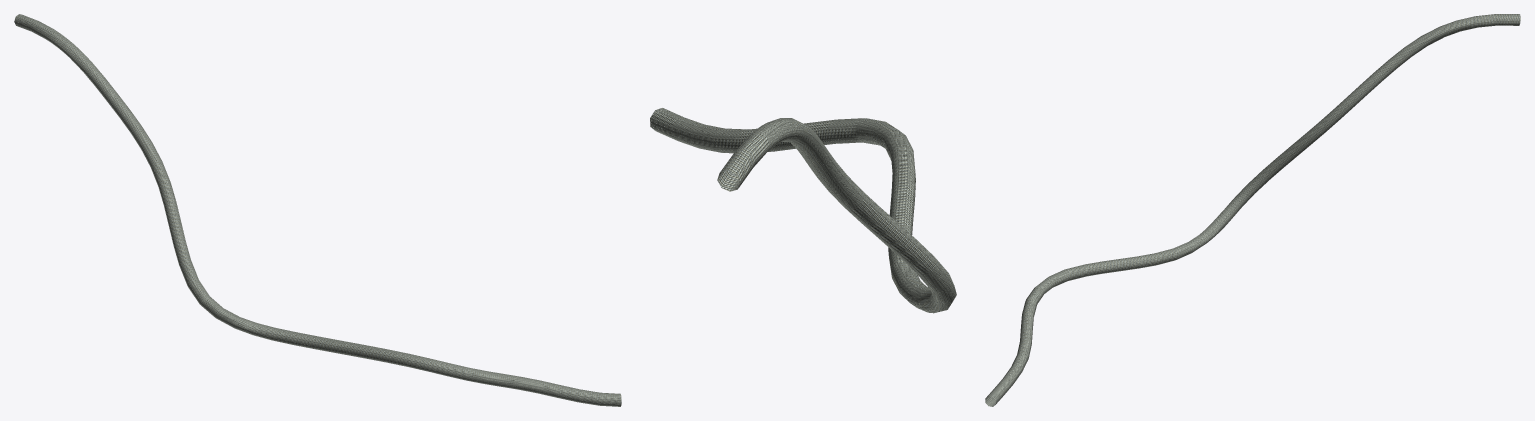
Rendered from microtubule32.fbx.
3 views of the same model, side by side, from view 1: azimuth 30°, elevation 25°; view 2: azimuth 150°, elevation 25°; view 3: azimuth 270°, elevation 25° (orthographic). The views are drawn at different scales.
Visible parts, largest first — view 1: microtubule32; view 2: microtubule32; view 3: microtubule32.
Boxes of the visible parts, <box> form: microtubule32: <box>14,14,621,406</box>; microtubule32: <box>650,108,956,313</box>; microtubule32: <box>985,14,1520,406</box>.
Size of the model in its own units: 4291 by 3321 by 6496.
Materials: 1 (1 with a texture image).
